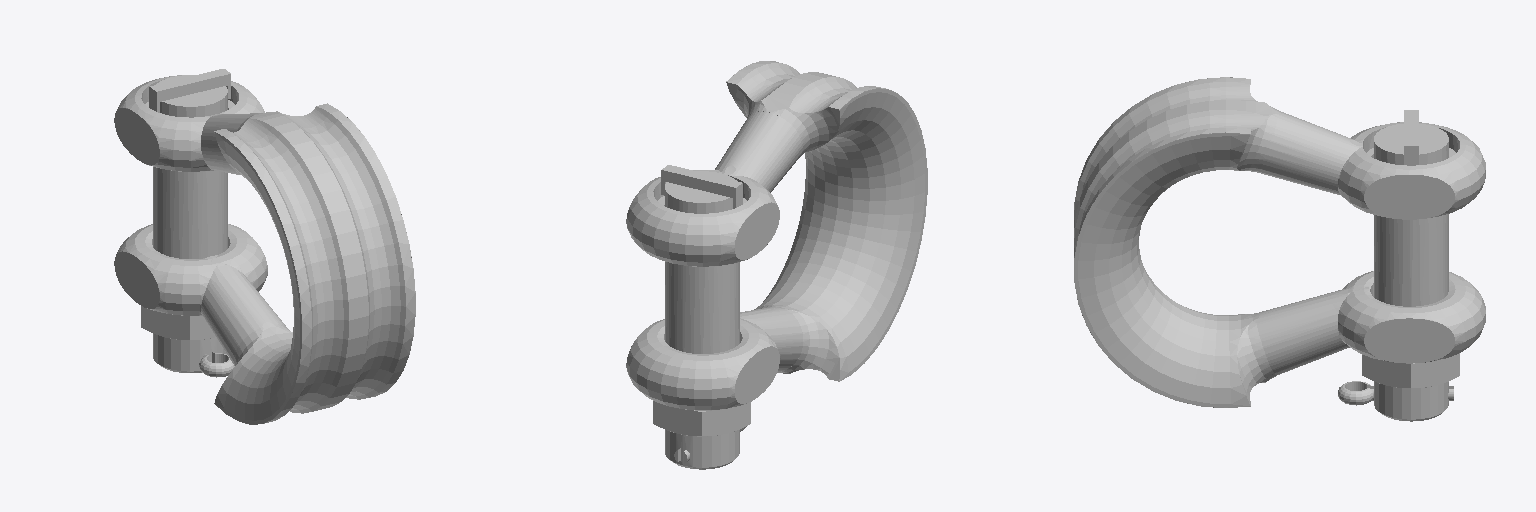
The model's file is CWB_generic_800t.obj.
3 renders of one model, left to right at view 1: azimuth 30°, elevation 25°; view 2: azimuth 150°, elevation 25°; view 3: azimuth 270°, elevation 25°, orthographic.
Parts seen in each view (by area): view 1: Shape_IndexedFaceSet.028; view 2: Shape_IndexedFaceSet.028; view 3: Shape_IndexedFaceSet.028.
Boxes of the visible parts, box(x1,y1,x2,y2) form: Shape_IndexedFaceSet.028: box(114, 69, 415, 424); Shape_IndexedFaceSet.028: box(626, 61, 927, 469); Shape_IndexedFaceSet.028: box(1074, 77, 1485, 421).
Bounding box in the file's own units: 0.42 × 1.07 × 1.32.